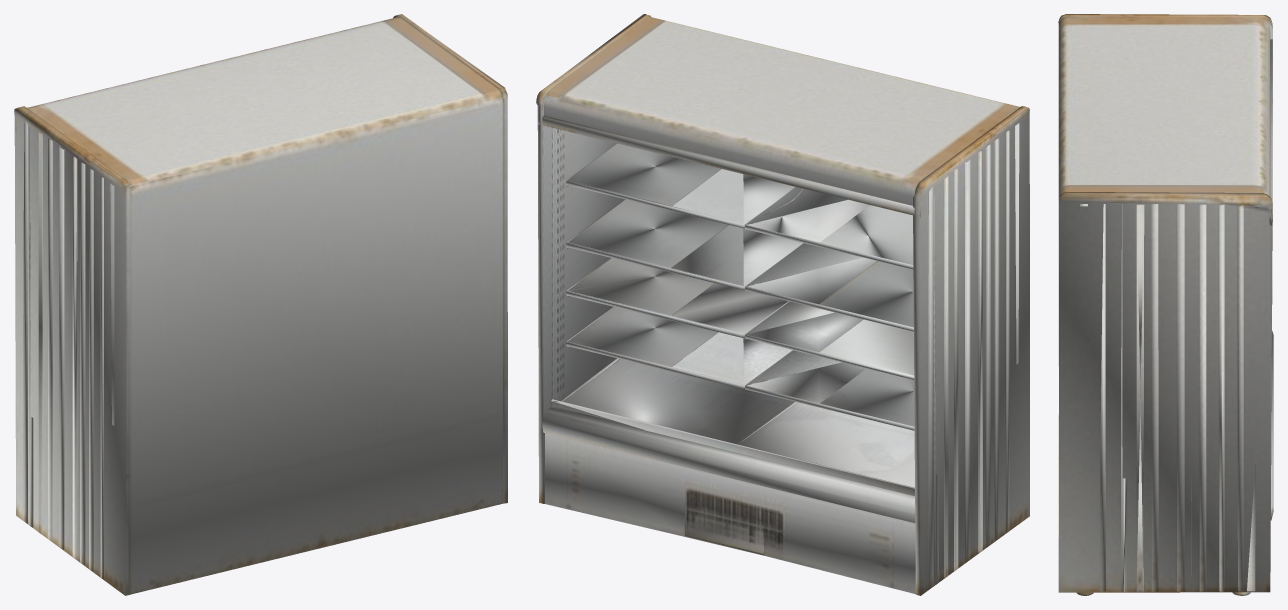
File: mall-multideck-open-cooler.glb
The picture shows the model from 3 angles, left to right: view 1: azimuth 30°, elevation 25°; view 2: azimuth 150°, elevation 25°; view 3: azimuth 270°, elevation 25°; orthographic projection. The views are drawn at different scales.
Visible parts, largest first — view 1: multideck-open-cooler; view 2: multideck-open-cooler; view 3: multideck-open-cooler.
Part boxes in pixels (x1,y1,x2,y2): multideck-open-cooler: (14, 14, 507, 595); multideck-open-cooler: (536, 14, 1029, 595); multideck-open-cooler: (1058, 14, 1273, 595).
Bounding box in the file's own units: 1.9 × 1.98 × 0.9505.
1 material, 1 textured.
